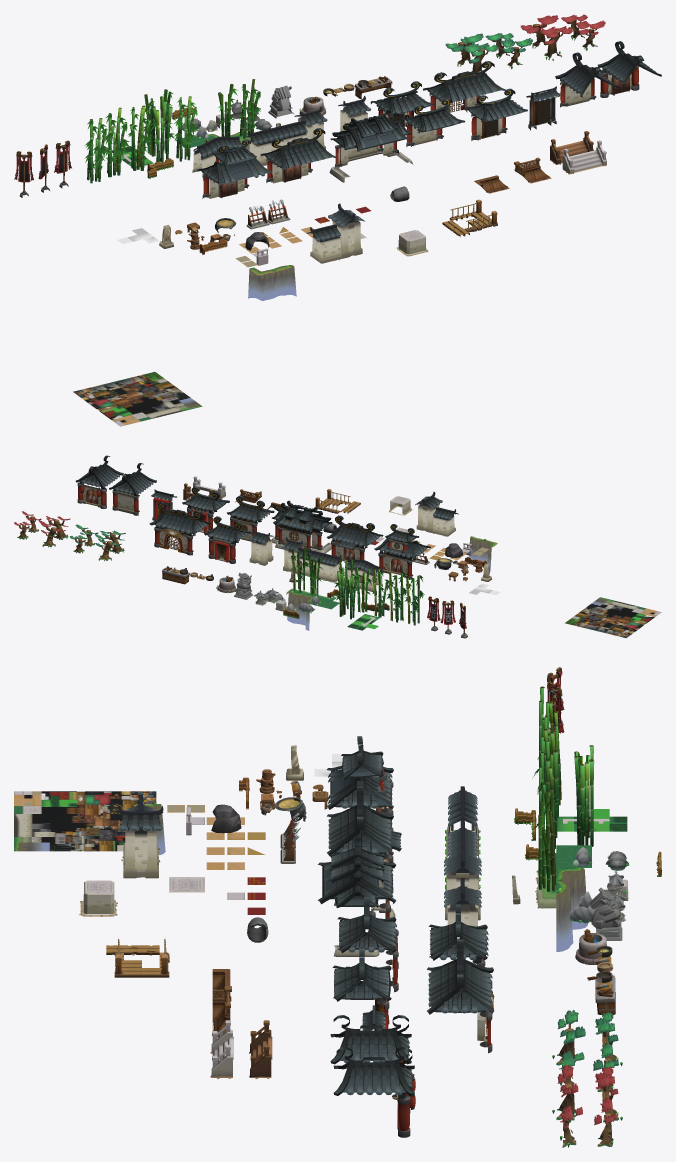
Rendered from china.fbx.
3 views of the same model, one above another, from view 1: azimuth 30°, elevation 25°; view 2: azimuth 150°, elevation 25°; view 3: azimuth 270°, elevation 25° (orthographic). The views are drawn at different scales.
Visible parts, largest first — view 1: fog1_1, house2, house4, house3_1, house3_gym, [gimmick]enterance_wall, house3_2[side], house1_2[side], house1_1, obj_secret_path1, wall_house_C, wall_Bamboo005 (+8 smaller); view 2: fog1_1, house2, house3_gym, house4, house3_1, house3_2[side], house1_2[side], obj_secret_path1, house1_1, [gimmick]enterance_wall, house1_C1, wall_house_C (+16 smaller); view 3: fog1_1, house2, house3_gym, house3_2[side], house4, house3_1, house1_2[side], wall_house_C, house1_1, [gimmick]enterance_wall, obj_secret_path1, wall_Bamboo4_L (+11 smaller).
Part boxes in pixels (x1=…): fog1_1: x1=73, y1=372, x2=202, y2=426; house2: x1=329, y1=109, x2=413, y2=182; house4: x1=197, y1=139, x2=272, y2=198; house3_1: x1=260, y1=128, x2=335, y2=183; house3_gym: x1=423, y1=61, x2=505, y2=113; [gimmick]enterance_wall: x1=464, y1=88, x2=527, y2=140; house3_2[side]: x1=597, y1=41, x2=661, y2=97; house1_2[side]: x1=555, y1=52, x2=619, y2=107; house1_1: x1=401, y1=98, x2=465, y2=146; obj_secret_path1: x1=370, y1=81, x2=434, y2=126; wall_house_C: x1=328, y1=203, x2=365, y2=258; wall_Bamboo005: x1=104, y1=107, x2=130, y2=177; fog1_1: x1=565, y1=597, x2=661, y2=638; house2: x1=272, y1=500, x2=332, y2=553; house3_gym: x1=149, y1=502, x2=211, y2=555; house4: x1=374, y1=524, x2=430, y2=579; house3_1: x1=326, y1=515, x2=383, y2=561; house3_2[side]: x1=75, y1=455, x2=123, y2=508; house1_2[side]: x1=109, y1=463, x2=156, y2=515; obj_secret_path1: x1=204, y1=516, x2=251, y2=563; house1_1: x1=227, y1=495, x2=274, y2=541; [gimmick]enterance_wall: x1=182, y1=486, x2=229, y2=532; house1_C1: x1=249, y1=529, x2=273, y2=565; wall_house_C: x1=415, y1=491, x2=442, y2=532; fog1_1: x1=14, y1=791, x2=156, y2=851; house2: x1=318, y1=837, x2=396, y2=956; house3_gym: x1=427, y1=939, x2=493, y2=1053; house3_2[side]: x1=333, y1=1047, x2=415, y2=1137; house4: x1=327, y1=736, x2=393, y2=825; house3_1: x1=327, y1=786, x2=393, y2=893; house1_2[side]: x1=330, y1=1015, x2=411, y2=1096; wall_house_C: x1=118, y1=806, x2=163, y2=878; house1_1: x1=337, y1=896, x2=398, y2=992; [gimmick]enterance_wall: x1=332, y1=947, x2=391, y2=1030; obj_secret_path1: x1=429, y1=904, x2=488, y2=966; wall_Bamboo4_L: x1=574, y1=756, x2=594, y2=846.
Size of the model in its own units: 65.43 by 13.35 by 36.68.
Materials: 1 (1 with a texture image).
